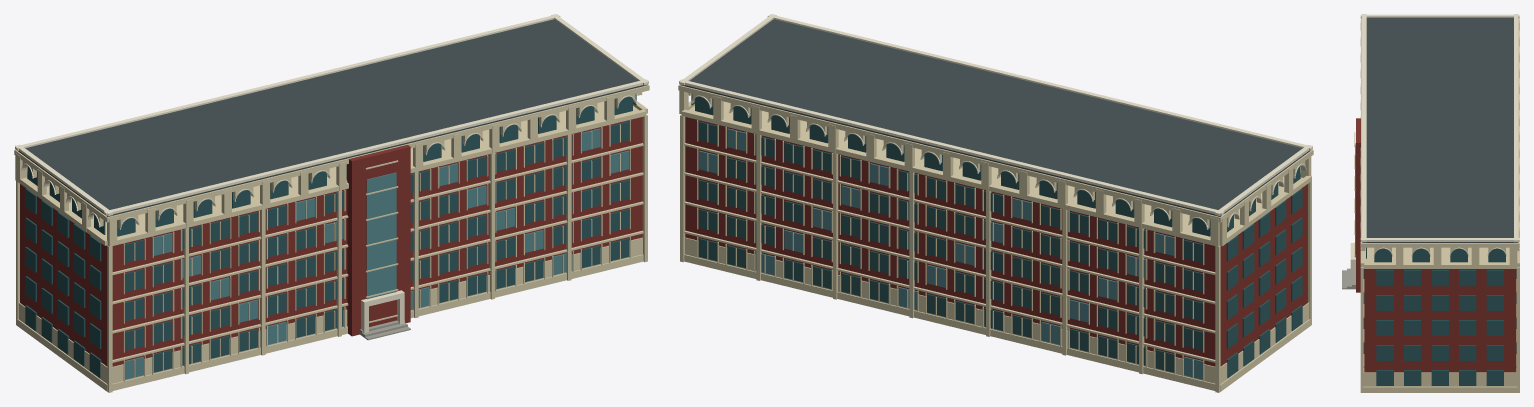
The picture shows the model from 3 angles, left to right: view 1: azimuth 30°, elevation 25°; view 2: azimuth 150°, elevation 25°; view 3: azimuth 270°, elevation 25°; orthographic projection. The views are drawn at different scales.
Visible parts, largest first — view 1: MainBlock_Roof, MainBlock_Structure, MainBlock_WindowGlass, MainBlock_WindowFrames, MainBlock_Pilasters, MainBlock_CentralBrickPier, MainBlock_RoofCoping, MainBlock_FloorBands, MainBlock_SideWindows, MainBlock_AtticPiers, MainBlock_Plinth, MainBlock_AtticRecess (+8 smaller); view 2: MainBlock_Roof, MainBlock_Structure, MainBlock_WindowGlass, MainBlock_WindowFrames, MainBlock_FloorBands, MainBlock_Pilasters, MainBlock_RoofCoping, MainBlock_SideWindows, MainBlock_AtticPiers, MainBlock_Plinth, MainBlock_AtticRecess, MainBlock_AtticSills (+5 smaller); view 3: MainBlock_Roof, MainBlock_Structure, MainBlock_SideWindows, MainBlock_RoofCoping, MainBlock_Cornice, MainBlock_GroundStonework, MainBlock_AtticPiers, MainBlock_Plinth, MainBlock_Pilasters, MainBlock_AtticFloor, MainBlock_AtticRecess, MainBlock_AtticSills (+5 smaller).
Part boxes in pixels (left/top/right/bottom): MainBlock_Roof: left=18, top=19, right=647, bottom=216; MainBlock_Structure: left=20, top=117, right=642, bottom=366; MainBlock_WindowGlass: left=125, top=121, right=629, bottom=379; MainBlock_WindowFrames: left=123, top=120, right=630, bottom=381; MainBlock_Pilasters: left=16, top=114, right=647, bottom=392; MainBlock_CentralBrickPier: left=347, top=144, right=410, bottom=336; MainBlock_RoofCoping: left=15, top=14, right=648, bottom=215; MainBlock_FloorBands: left=19, top=143, right=643, bottom=362; MainBlock_SideWindows: left=25, top=188, right=101, bottom=377; MainBlock_AtticPiers: left=15, top=96, right=614, bottom=246; MainBlock_Plinth: left=16, top=254, right=643, bottom=391; MainBlock_AtticRecess: left=27, top=93, right=636, bottom=236; MainBlock_Roof: left=680, top=19, right=1309, bottom=216; MainBlock_Structure: left=685, top=117, right=1307, bottom=366; MainBlock_WindowGlass: left=698, top=121, right=1202, bottom=379; MainBlock_WindowFrames: left=697, top=120, right=1204, bottom=381; MainBlock_FloorBands: left=684, top=143, right=1308, bottom=362; MainBlock_Pilasters: left=680, top=114, right=1311, bottom=392; MainBlock_RoofCoping: left=679, top=14, right=1312, bottom=215; MainBlock_SideWindows: left=1226, top=188, right=1302, bottom=377; MainBlock_AtticPiers: left=679, top=90, right=1311, bottom=246; MainBlock_Plinth: left=684, top=254, right=1311, bottom=391; MainBlock_AtticRecess: left=691, top=93, right=1300, bottom=236; MainBlock_AtticSills: left=681, top=101, right=1311, bottom=244; MainBlock_Roof: left=1362, top=17, right=1518, bottom=242; MainBlock_Structure: left=1364, top=269, right=1516, bottom=372; MainBlock_SideWindows: left=1376, top=270, right=1503, bottom=385; MainBlock_RoofCoping: left=1360, top=14, right=1519, bottom=242; MainBlock_Cornice: left=1361, top=18, right=1519, bottom=247; MainBlock_GroundStonework: left=1363, top=368, right=1516, bottom=386; MainBlock_AtticPiers: left=1360, top=20, right=1519, bottom=268; MainBlock_Plinth: left=1362, top=386, right=1517, bottom=392; MainBlock_Pilasters: left=1360, top=267, right=1519, bottom=392; MainBlock_AtticFloor: left=1363, top=247, right=1509, bottom=268; MainBlock_AtticRecess: left=1366, top=247, right=1505, bottom=262; MainBlock_AtticSills: left=1360, top=251, right=1519, bottom=268.
Size of the model in its own units: 75.9 by 23.94 by 25.18.
